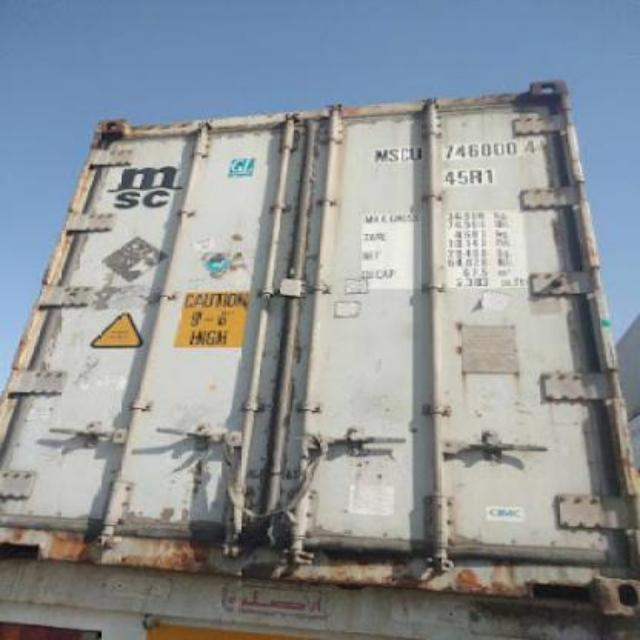0: (504, 134, 520, 156), (488, 138, 504, 158), (480, 138, 492, 160)
4: (522, 134, 542, 156), (454, 138, 468, 160)
6: (466, 140, 478, 162)
7: (444, 140, 454, 163)
C: (400, 144, 410, 164)
M: (374, 146, 388, 164)
S: (388, 143, 400, 167)
U: (406, 143, 424, 167)
